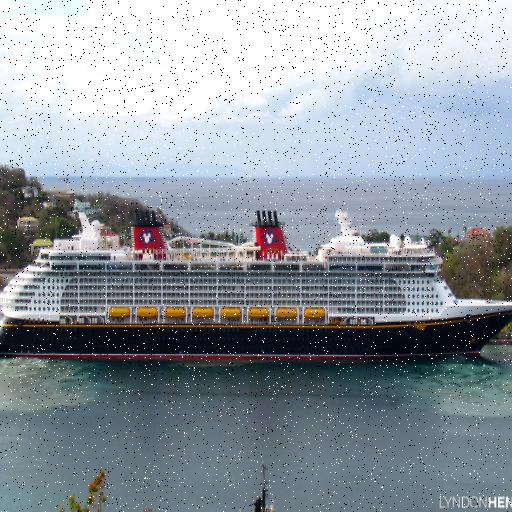cruises: (1, 195, 512, 374)
